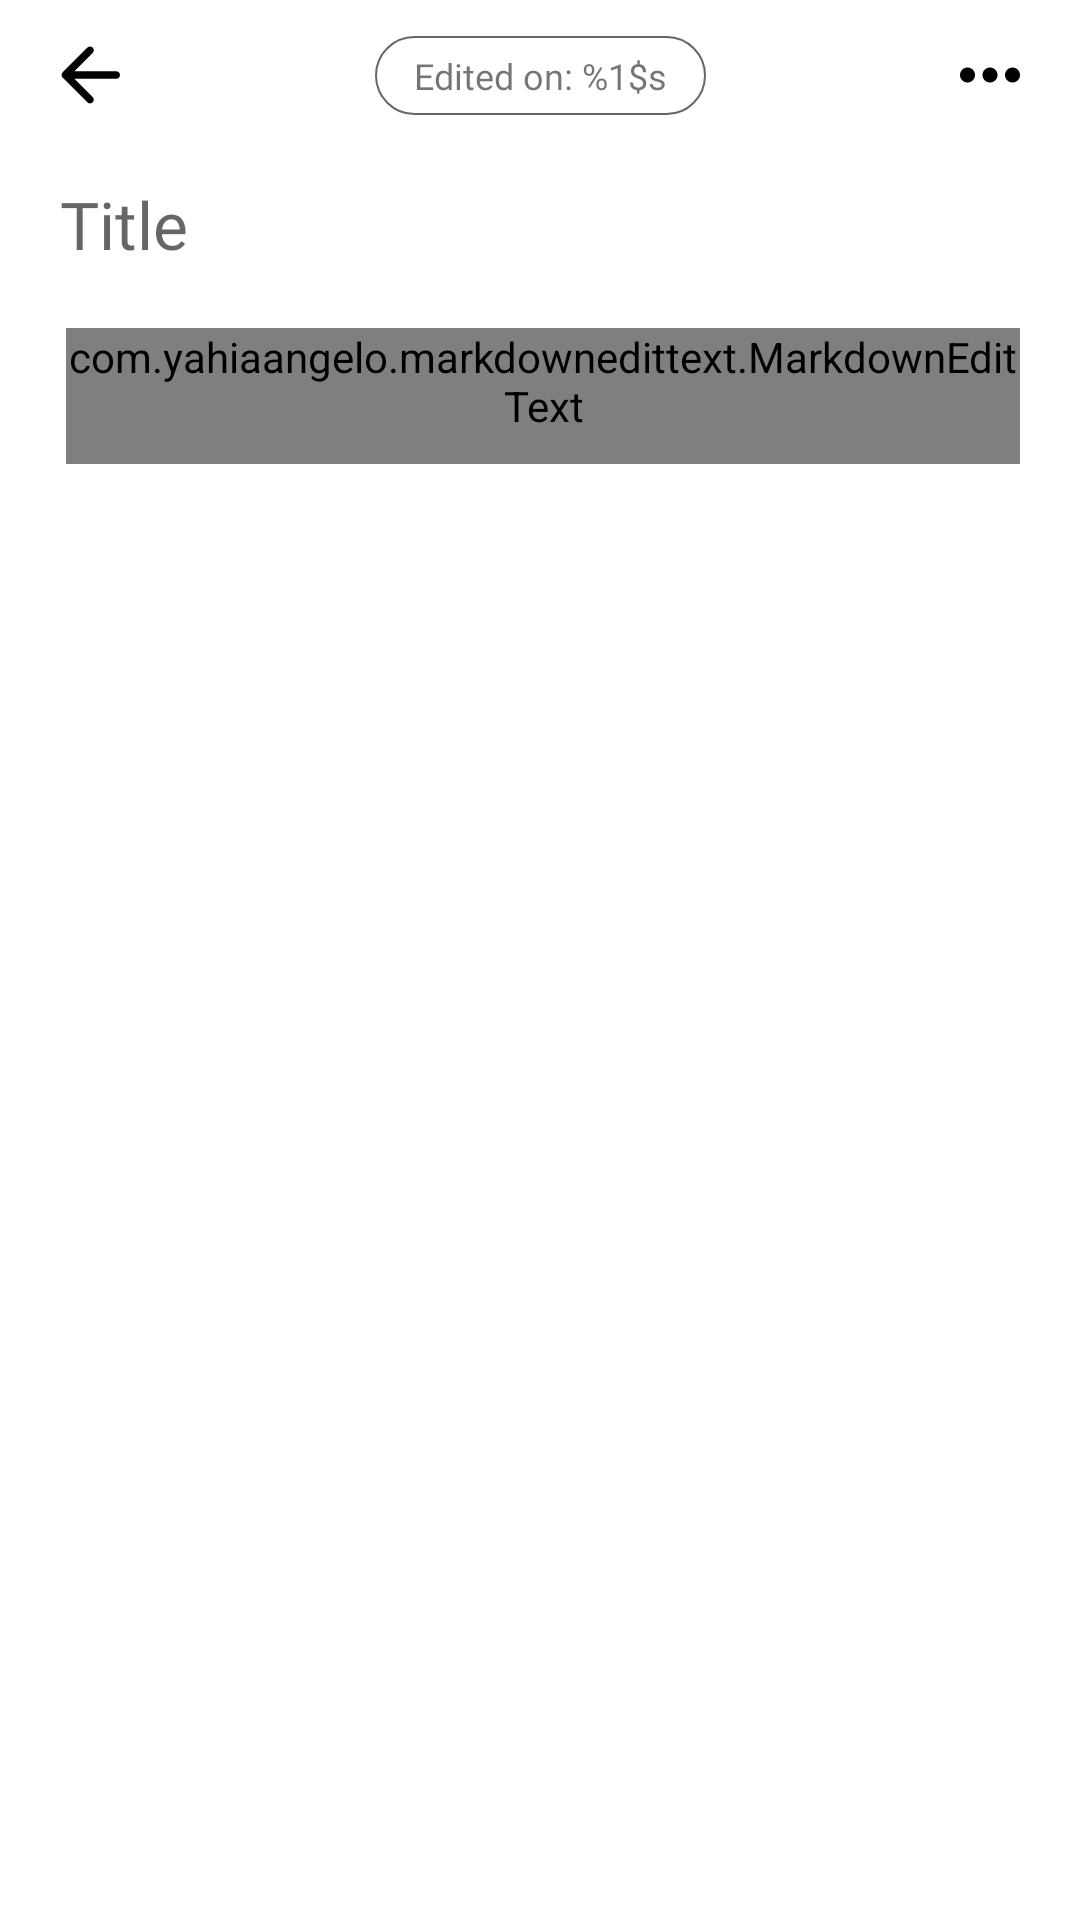

Locate icon controls on the screen. Image size 1080 x 1920, boxes as (x1, y1, x2, y2).
back: (61, 46, 120, 104)
